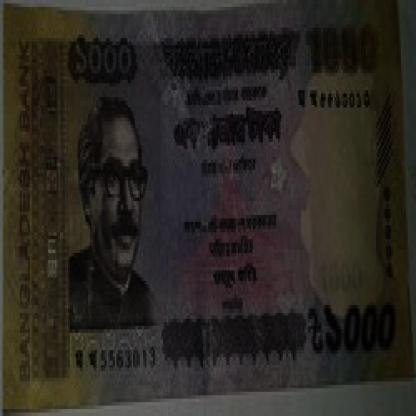One Thousand taka: (306, 302, 398, 364), (303, 18, 381, 76), (70, 38, 138, 83), (318, 257, 366, 298)
